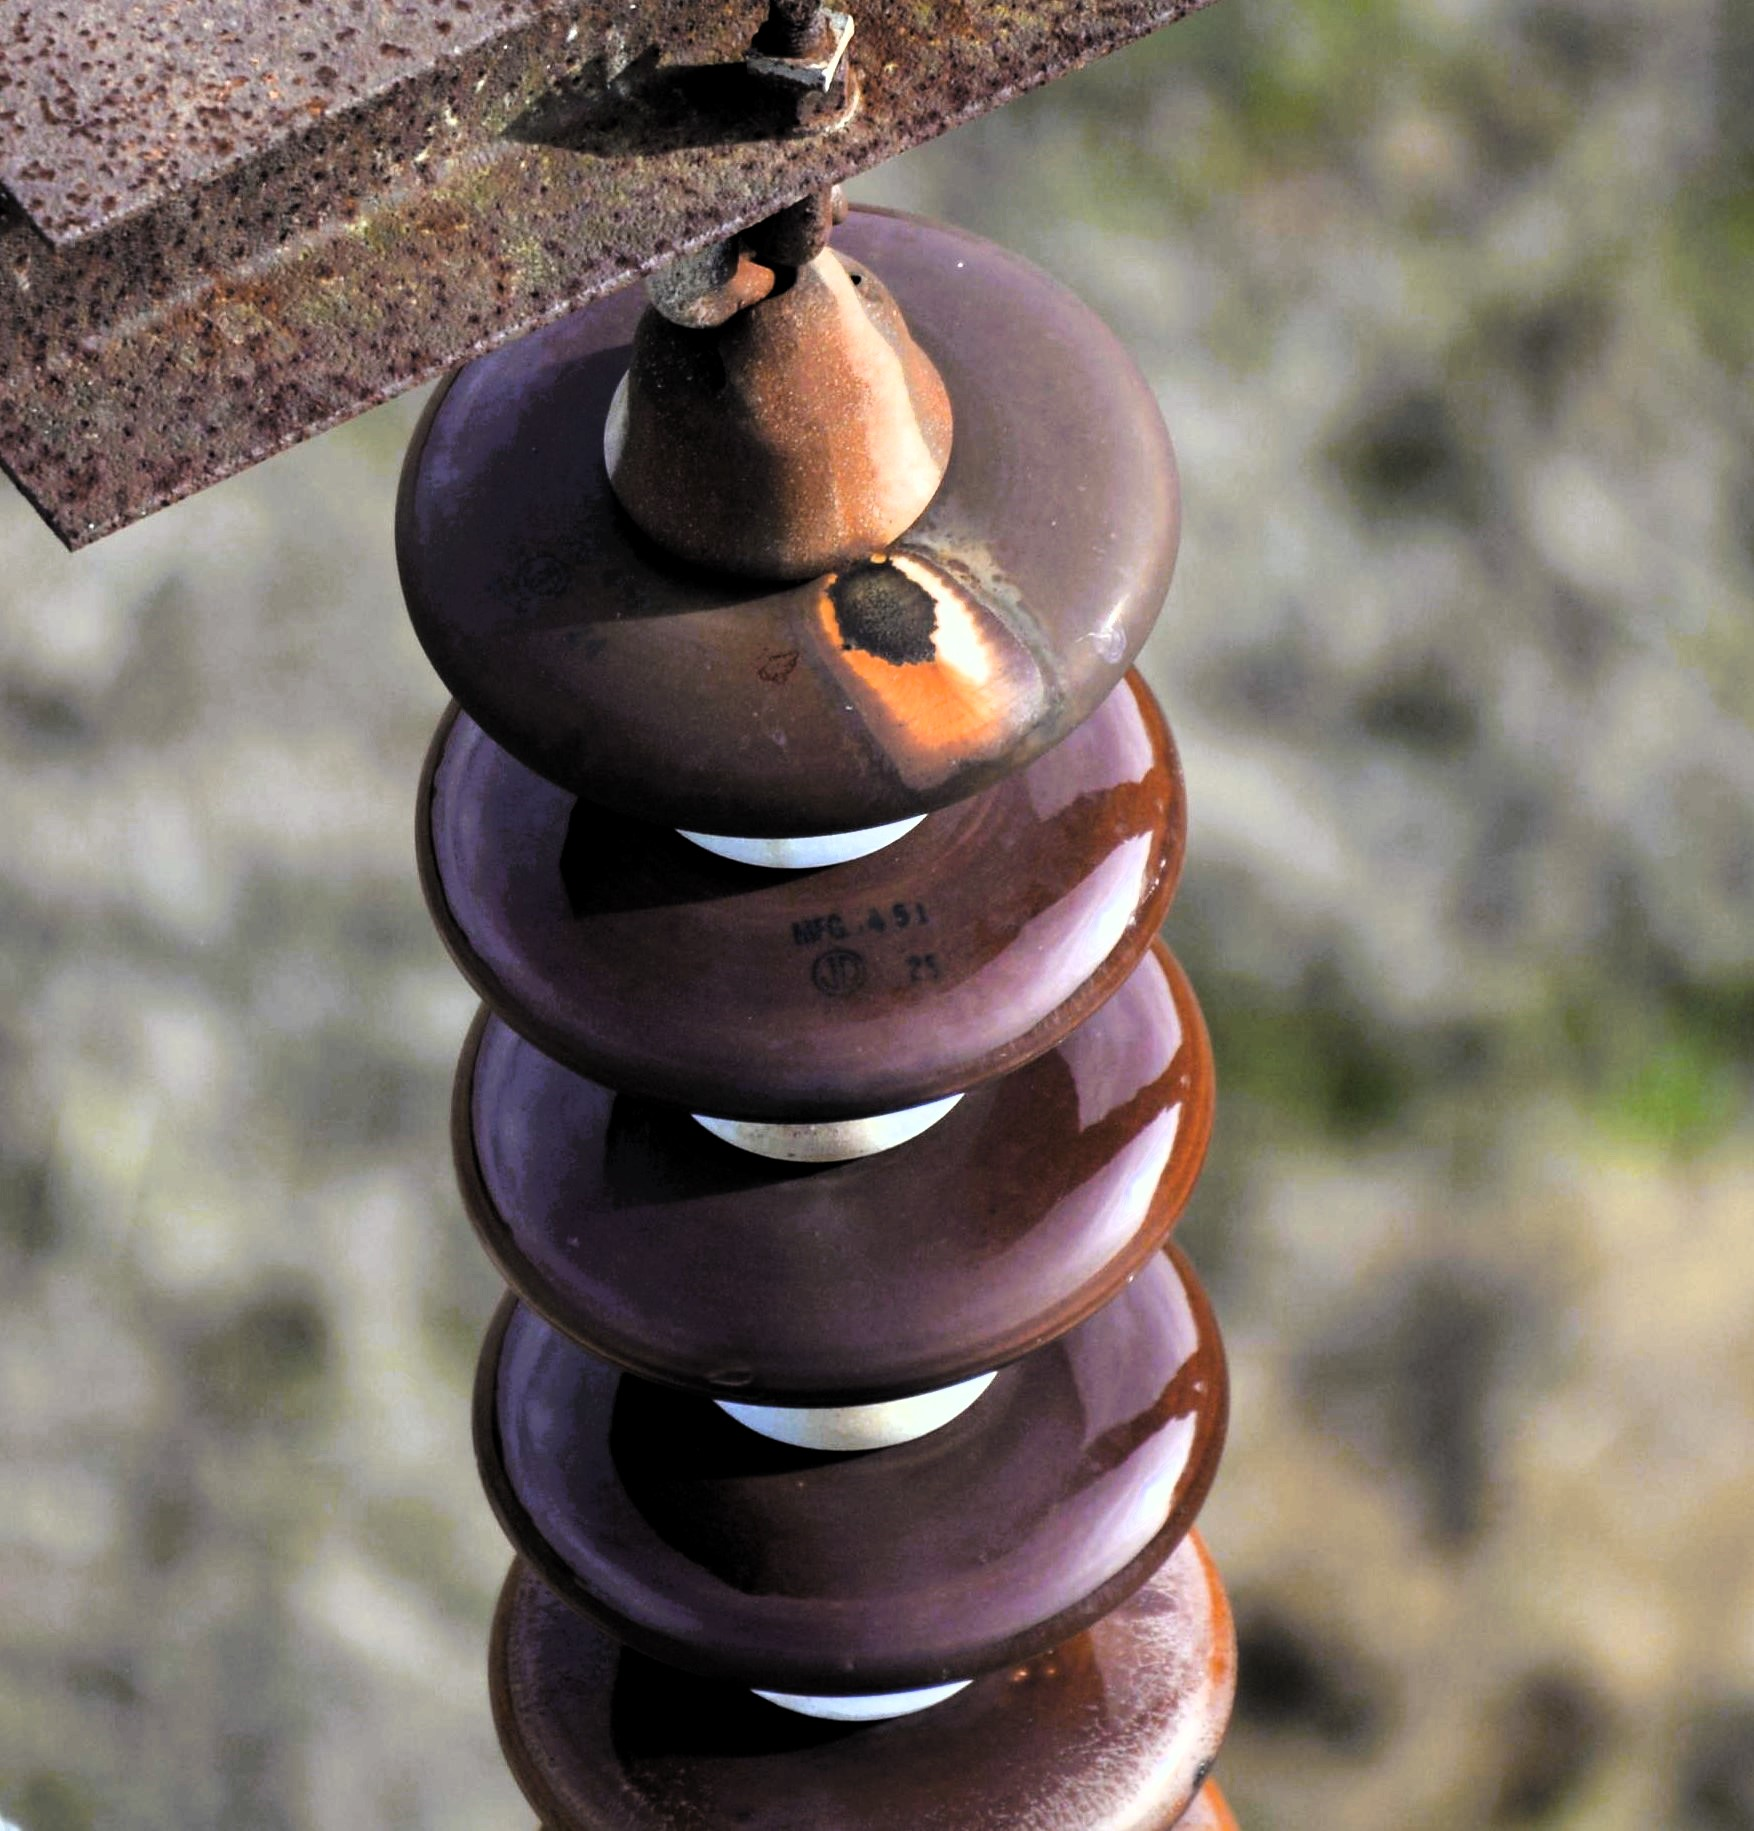Insulator flashover: (378, 196, 1195, 852)
